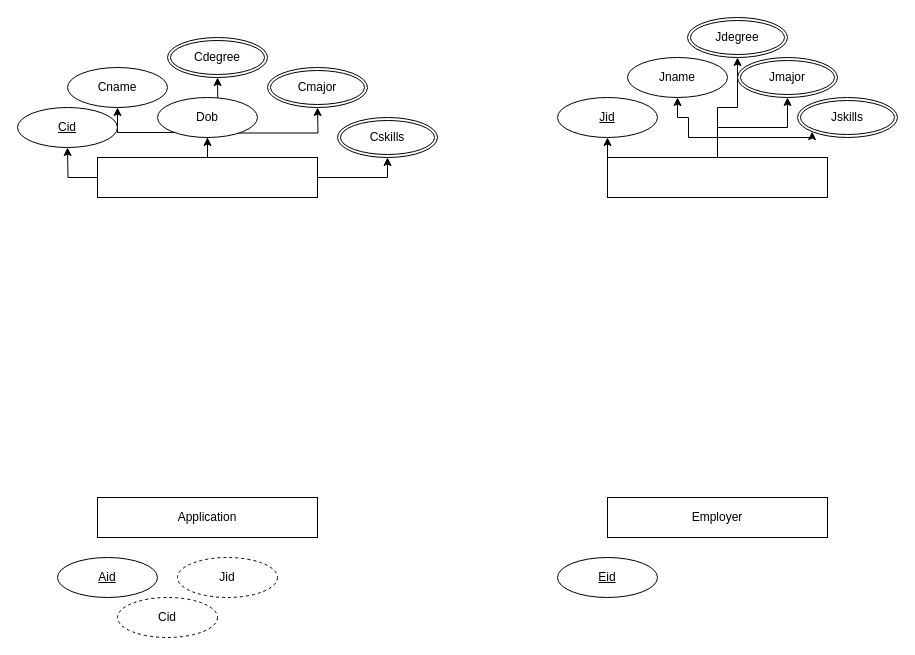
Some shapes in this 915 by 655 pixel diagram are drawn without their labels. The centre of each missing label's shape, as x and y in pixels:
"Candidate" belongs at (x=207, y=177).
"Job" belongs at (x=717, y=177).
